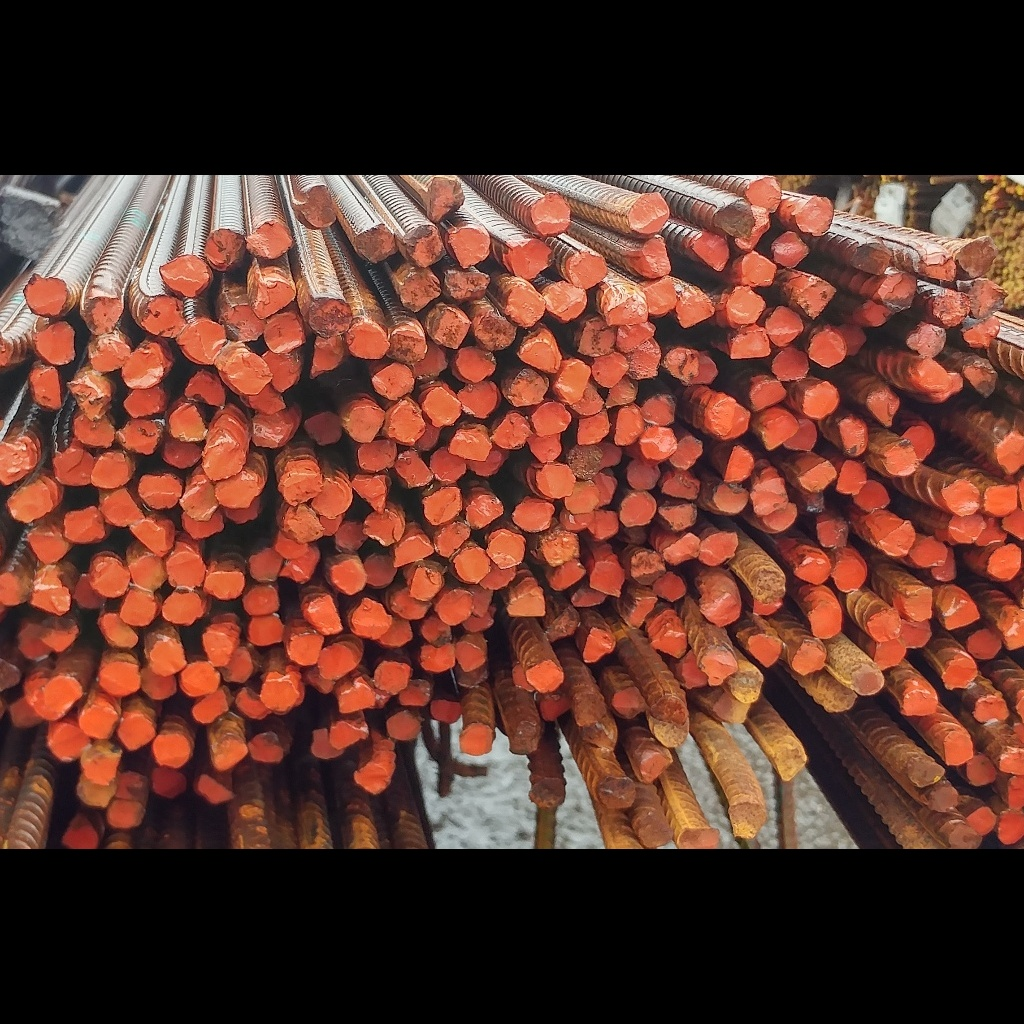dipstick: (692, 571, 747, 626), (216, 343, 274, 395), (275, 454, 324, 505), (952, 231, 1002, 280), (502, 238, 557, 282), (652, 693, 694, 750), (67, 371, 119, 417), (800, 618, 903, 641), (644, 609, 690, 659), (445, 221, 491, 271), (5, 478, 56, 523), (704, 395, 752, 442), (29, 319, 79, 364), (177, 320, 227, 365), (294, 184, 340, 232), (157, 256, 212, 296), (244, 219, 297, 260), (934, 585, 981, 631), (501, 284, 548, 330), (395, 268, 444, 312), (351, 222, 400, 266), (300, 593, 350, 636), (627, 236, 678, 278), (424, 306, 472, 350), (30, 567, 73, 616), (770, 734, 813, 783), (528, 191, 573, 237), (81, 290, 126, 335), (52, 441, 96, 487), (216, 466, 262, 510), (516, 330, 562, 374), (724, 795, 767, 842), (503, 366, 551, 408), (310, 332, 351, 381), (114, 416, 163, 457), (470, 311, 519, 352), (384, 397, 424, 447), (845, 236, 895, 276), (200, 228, 245, 272), (307, 293, 352, 337), (754, 407, 798, 452), (794, 275, 838, 320), (626, 191, 669, 237), (599, 284, 651, 322), (965, 279, 1014, 319), (161, 588, 211, 627), (96, 488, 147, 526), (144, 293, 187, 338), (126, 549, 171, 592), (87, 554, 132, 597), (259, 671, 304, 714), (404, 225, 447, 270), (85, 331, 131, 373), (342, 400, 384, 446), (97, 655, 143, 697), (542, 280, 589, 321), (24, 273, 68, 316), (805, 325, 848, 369), (203, 436, 245, 481), (348, 600, 393, 642), (369, 362, 420, 399), (440, 266, 491, 303), (121, 348, 167, 389), (675, 282, 716, 328), (261, 346, 301, 393), (129, 518, 176, 558), (180, 369, 228, 408), (24, 528, 76, 564), (36, 613, 84, 652), (145, 632, 188, 675), (573, 316, 618, 357), (791, 196, 836, 237), (877, 272, 922, 313), (252, 276, 298, 316), (222, 304, 268, 344), (565, 248, 611, 288), (721, 285, 767, 325), (349, 320, 391, 363), (325, 554, 368, 596), (424, 177, 466, 220), (792, 544, 833, 588), (762, 304, 806, 345), (180, 478, 220, 523), (696, 643, 741, 683), (855, 383, 900, 423), (553, 360, 593, 405), (446, 422, 492, 461), (62, 505, 109, 543), (722, 325, 773, 360), (118, 386, 172, 419), (420, 385, 462, 427), (769, 230, 811, 272), (264, 313, 307, 354), (804, 597, 845, 640), (870, 519, 913, 560), (348, 474, 392, 514), (527, 776, 572, 815), (69, 411, 115, 449), (361, 510, 407, 548), (897, 751, 944, 788), (54, 813, 102, 849), (798, 378, 840, 419), (711, 197, 753, 238), (138, 472, 182, 511), (150, 732, 194, 771), (448, 543, 487, 587), (750, 471, 789, 515), (450, 347, 499, 382), (279, 505, 324, 543), (96, 611, 141, 649), (669, 650, 714, 688), (318, 640, 364, 677), (511, 495, 557, 532), (167, 401, 208, 442), (1, 437, 36, 485), (311, 478, 351, 520), (617, 489, 659, 529), (393, 449, 435, 489), (91, 450, 134, 489), (983, 541, 1022, 584), (24, 367, 62, 411), (420, 487, 465, 524), (456, 382, 501, 419), (903, 359, 955, 391), (46, 723, 92, 759), (736, 205, 772, 251), (656, 498, 703, 533), (279, 544, 319, 585), (373, 655, 413, 696), (940, 477, 981, 517), (490, 411, 532, 450), (739, 176, 782, 214), (69, 773, 117, 807), (742, 629, 782, 669), (79, 698, 118, 739), (80, 745, 121, 784), (879, 439, 920, 478), (834, 409, 868, 456), (790, 637, 828, 679), (637, 390, 679, 428), (304, 405, 341, 448), (248, 725, 288, 764), (387, 325, 427, 364), (410, 341, 449, 381), (931, 287, 970, 327), (250, 410, 291, 448), (747, 371, 788, 409), (211, 732, 248, 774), (700, 531, 742, 568), (960, 356, 997, 398), (181, 511, 231, 542), (612, 404, 648, 447), (692, 230, 728, 273), (710, 481, 754, 516), (769, 347, 813, 382), (487, 530, 526, 569), (167, 552, 205, 592), (661, 531, 701, 569), (900, 682, 940, 720), (940, 651, 980, 689), (565, 442, 605, 480), (660, 344, 700, 382), (737, 250, 777, 288), (195, 773, 241, 806), (327, 717, 373, 750), (139, 665, 180, 702), (352, 760, 394, 796), (903, 422, 938, 465), (960, 316, 1003, 351), (756, 503, 800, 537), (189, 690, 234, 723), (120, 590, 158, 629), (221, 646, 259, 685), (620, 589, 658, 628), (833, 553, 870, 593), (940, 728, 977, 768), (534, 462, 574, 499), (908, 321, 948, 358), (16, 622, 52, 663), (523, 658, 564, 694), (354, 440, 400, 472), (162, 434, 204, 469), (966, 627, 1008, 662), (795, 457, 837, 492), (539, 530, 582, 564), (532, 402, 571, 439), (336, 678, 376, 714), (387, 587, 432, 619), (582, 625, 618, 665), (634, 811, 674, 847), (847, 661, 887, 697), (428, 447, 468, 483), (623, 342, 663, 378), (628, 549, 669, 584), (907, 532, 948, 567), (676, 815, 718, 849), (392, 535, 435, 568), (915, 250, 958, 283), (241, 584, 285, 616), (244, 615, 288, 647), (21, 680, 58, 718), (117, 711, 154, 749), (248, 545, 284, 584), (71, 571, 107, 610), (813, 512, 852, 548), (633, 746, 673, 781), (749, 563, 784, 603), (659, 468, 704, 499), (306, 727, 347, 761), (285, 633, 326, 667), (598, 776, 639, 810), (711, 690, 752, 724), (247, 384, 290, 416), (944, 514, 987, 546), (590, 561, 627, 598), (898, 585, 935, 622), (201, 629, 237, 667), (466, 492, 505, 527), (382, 709, 426, 740), (644, 277, 678, 317), (722, 443, 755, 484), (994, 428, 1024, 473), (203, 568, 245, 600), (181, 661, 218, 697), (436, 588, 472, 625), (684, 349, 721, 385), (639, 426, 677, 461), (577, 409, 612, 447), (234, 686, 273, 720), (331, 522, 371, 555), (996, 603, 1024, 650), (222, 496, 267, 525), (938, 820, 983, 849), (589, 508, 625, 544), (564, 478, 600, 514), (379, 614, 416, 649), (410, 564, 445, 601), (510, 720, 545, 757), (652, 571, 689, 606), (615, 319, 652, 354), (544, 606, 582, 640), (591, 354, 629, 388), (549, 559, 588, 592), (854, 481, 894, 513), (106, 798, 148, 828), (148, 766, 190, 796), (506, 587, 548, 617), (611, 686, 645, 723), (782, 419, 819, 453), (432, 522, 470, 555), (835, 457, 868, 495), (44, 678, 85, 708), (362, 552, 397, 587), (964, 752, 998, 788), (466, 449, 508, 478), (869, 637, 908, 668), (572, 691, 607, 725), (669, 436, 704, 470), (416, 615, 454, 646), (417, 643, 456, 673), (455, 639, 488, 674), (969, 693, 1010, 721), (273, 529, 310, 560), (624, 458, 661, 489), (525, 434, 562, 465), (983, 485, 1017, 518), (836, 323, 870, 356), (975, 514, 1010, 546), (571, 383, 606, 415), (900, 618, 936, 649), (995, 807, 1024, 845), (460, 722, 494, 754), (1, 571, 32, 606), (395, 679, 433, 707), (964, 802, 997, 834), (539, 690, 574, 720), (606, 374, 638, 406), (556, 504, 591, 533), (479, 562, 516, 589), (929, 781, 960, 813), (303, 665, 336, 695), (860, 300, 898, 326), (933, 548, 961, 582), (430, 699, 464, 726), (467, 582, 494, 616), (1001, 772, 1024, 810), (573, 582, 609, 606), (594, 472, 618, 507), (997, 745, 1024, 776), (828, 691, 860, 717), (797, 490, 829, 516), (415, 420, 444, 447), (752, 596, 789, 617), (1001, 506, 1024, 539), (599, 440, 621, 472), (461, 613, 500, 630)
